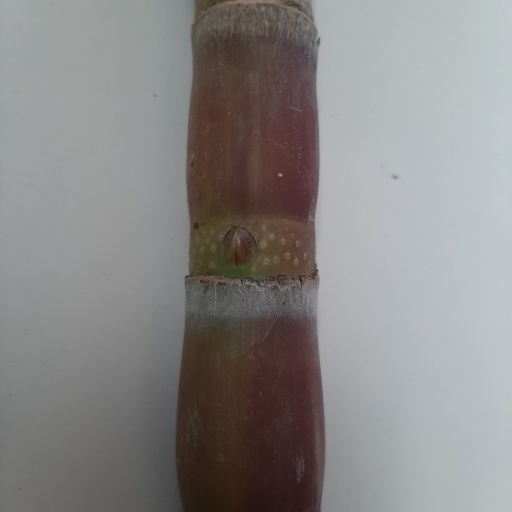Bud: (223, 226, 260, 270)
